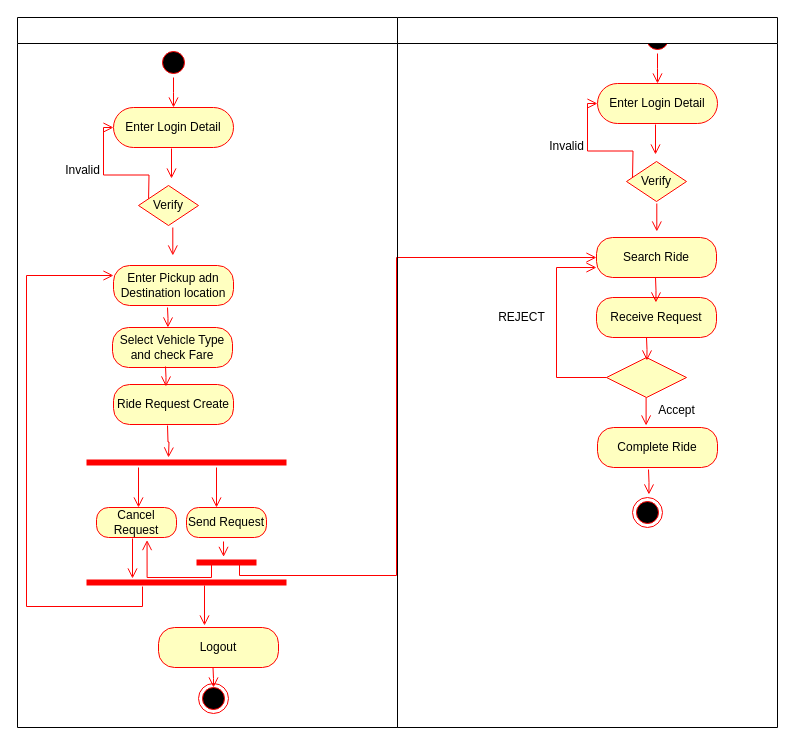
This 795x745 diagram has some shape labels left out. The shapes that lost their labels are listed below. From the top down, each one's centre as x and y in pixels, then its label:
At pixel 207 372: "Customer".
At pixel 587 372: "Driver".
